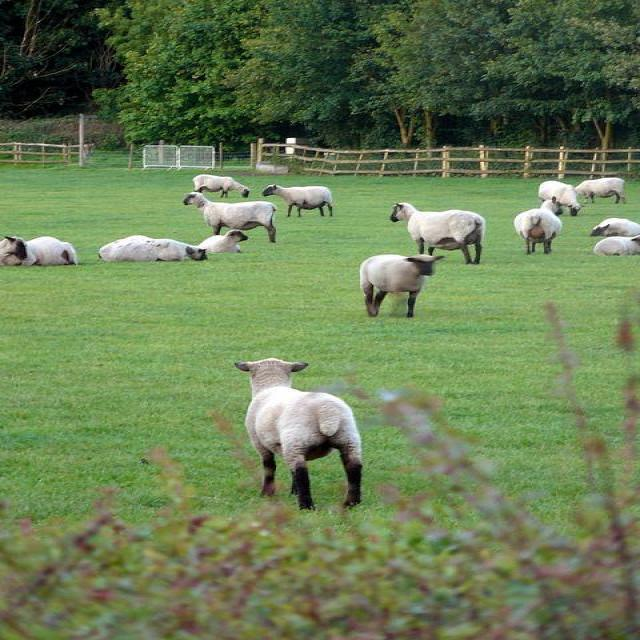Sheep: (232, 357, 363, 512), (357, 253, 444, 322), (391, 203, 486, 265), (182, 191, 282, 243), (262, 184, 334, 217), (516, 209, 563, 256), (539, 179, 588, 217)
